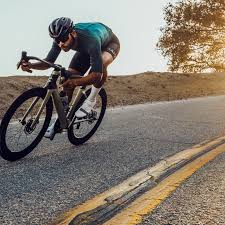helmet: (47, 14, 76, 37)
